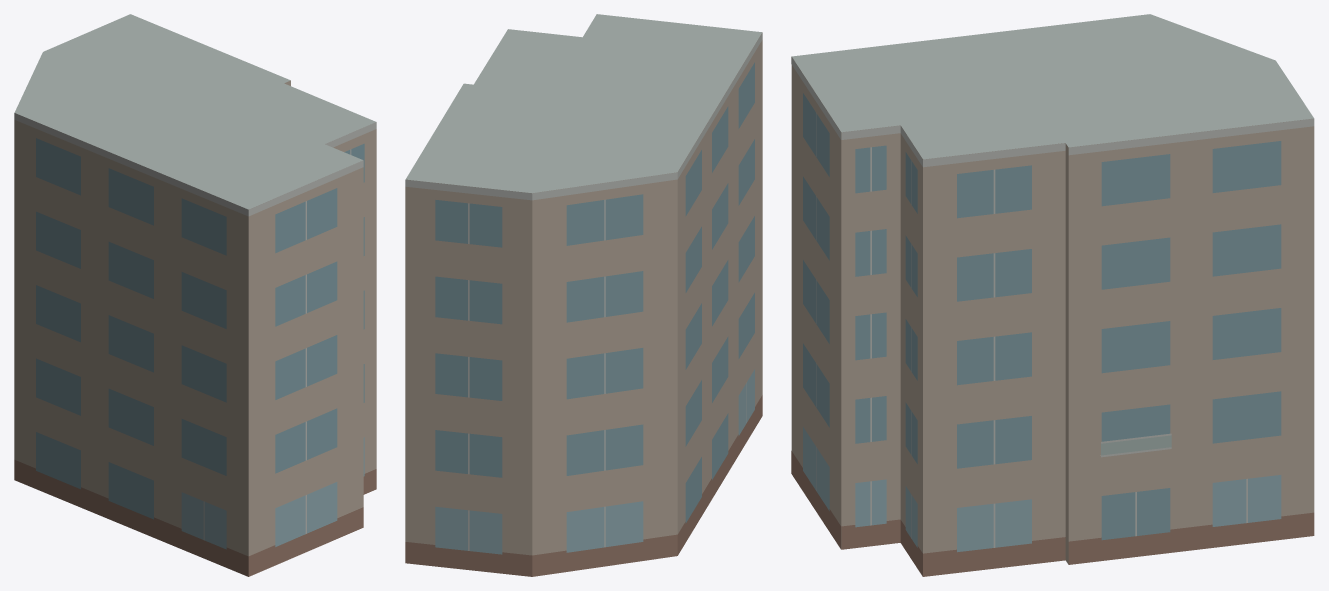
The model's file is survey-upis-32570002.glb.
3 views of the same model, side by side, from view 1: azimuth 30°, elevation 25°; view 2: azimuth 150°, elevation 25°; view 3: azimuth 270°, elevation 25° (orthographic). The views are drawn at different scales.
Visible parts, largest first — view 1: survey-upis-32570002.tmp; view 2: survey-upis-32570002.tmp; view 3: survey-upis-32570002.tmp.
Part boxes in pixels (bbox=[...]): survey-upis-32570002.tmp: bbox=[14, 14, 376, 576]; survey-upis-32570002.tmp: bbox=[405, 14, 762, 576]; survey-upis-32570002.tmp: bbox=[791, 14, 1314, 576].
Bounding box in the file's own units: 9.72 × 13 × 14.76.
